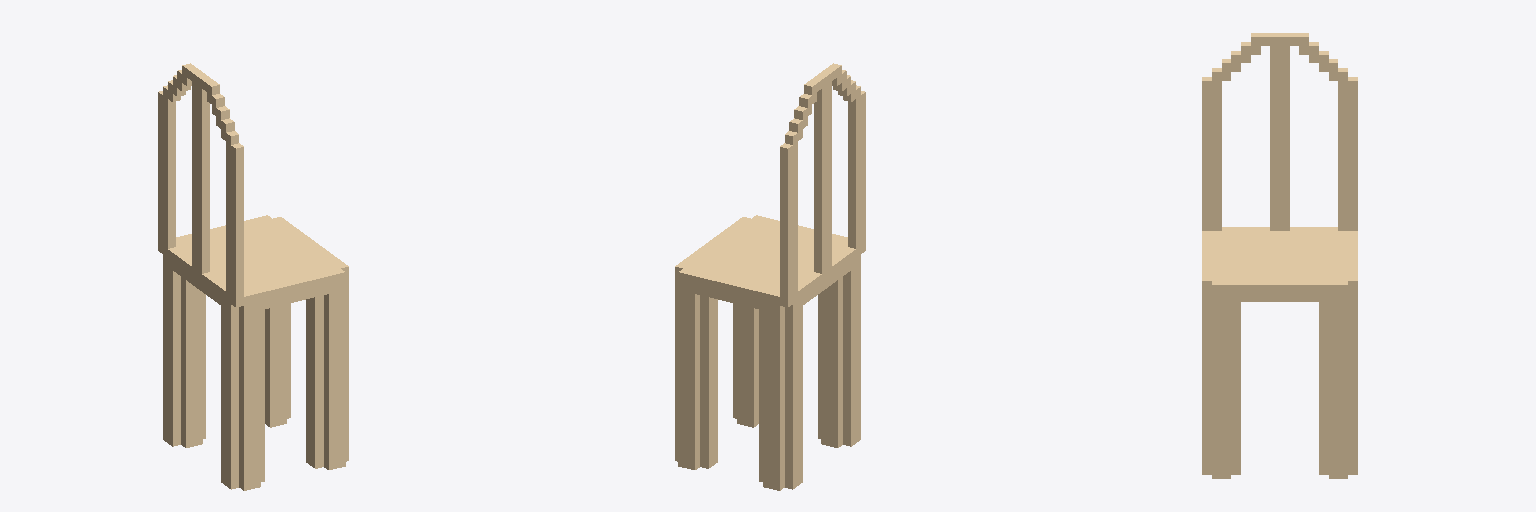
3 views of the same model, side by side, from view 1: azimuth 30°, elevation 25°; view 2: azimuth 150°, elevation 25°; view 3: azimuth 270°, elevation 25° (orthographic).
Parts seen in each view (by area): view 1: object 1; view 2: object 1; view 3: object 1.
Boxes of the visible parts, x1=… form: object 1: x1=158, y1=63, x2=348, y2=490; object 1: x1=675, y1=63, x2=865, y2=490; object 1: x1=1202, y1=33, x2=1357, y2=478.
Size of the model in its own units: 1.4 by 4.4 by 1.6.
1 materials, 1 textured.